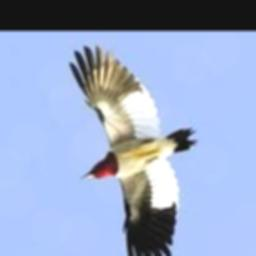Woodpecker: (70, 46, 197, 256)
